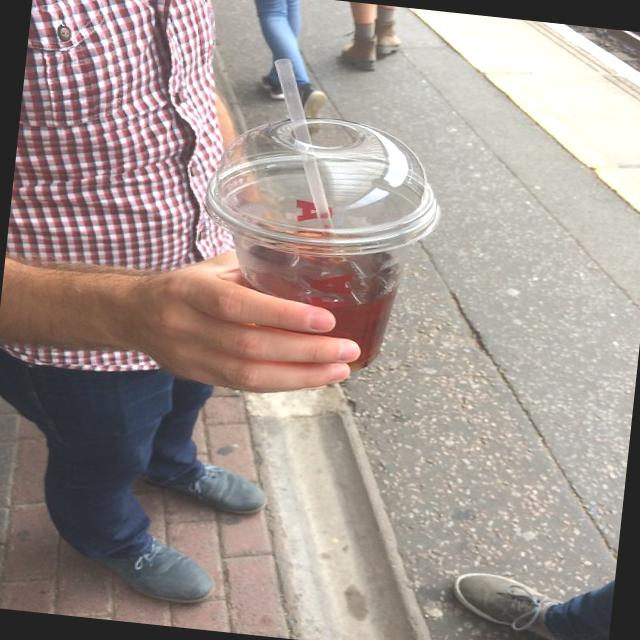Trash: (188, 50, 438, 376)
